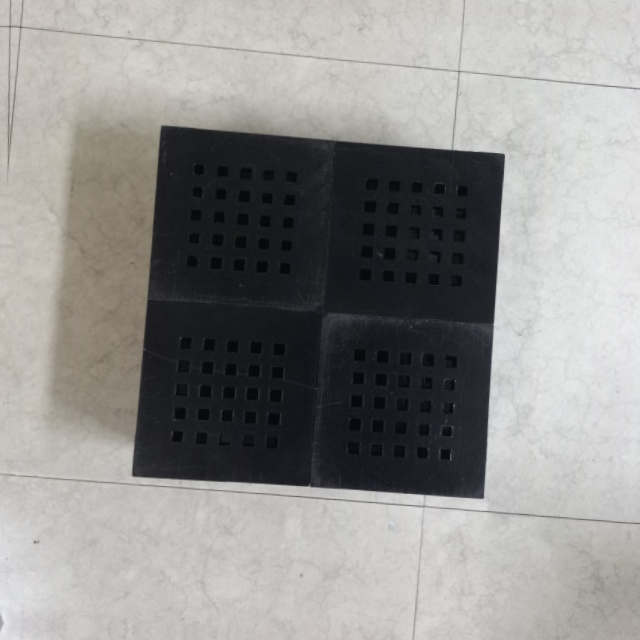pallet: (128, 118, 510, 511)
